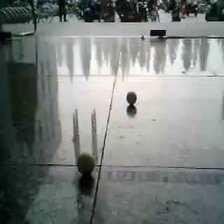w: (77, 152, 95, 176), (126, 92, 138, 105)
